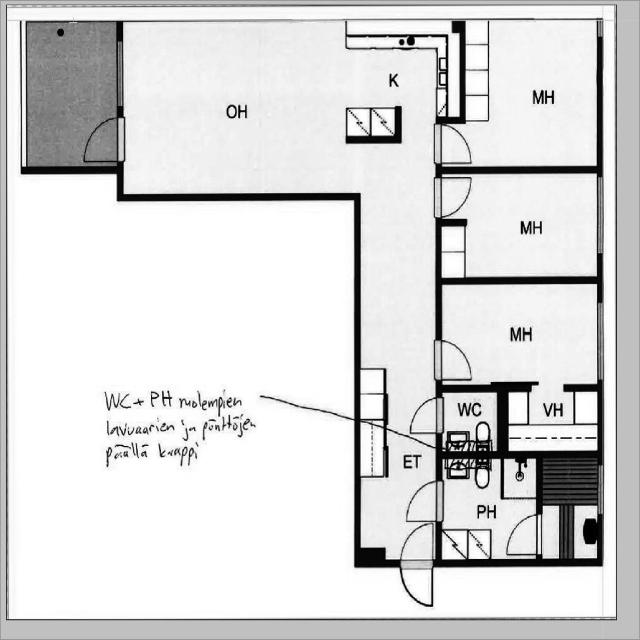door: (398, 518, 436, 608), (432, 121, 478, 168), (432, 338, 474, 384), (434, 173, 476, 218), (403, 481, 445, 526), (81, 117, 121, 162), (504, 512, 542, 556), (408, 398, 442, 436)
window: (590, 173, 610, 262), (592, 298, 610, 384), (114, 38, 125, 108), (597, 459, 609, 519)
zone: (356, 19, 441, 566), (120, 22, 358, 198), (435, 24, 599, 170), (438, 172, 601, 284), (438, 282, 598, 386), (438, 452, 538, 563), (539, 454, 601, 563), (503, 386, 604, 452), (440, 387, 502, 454)
